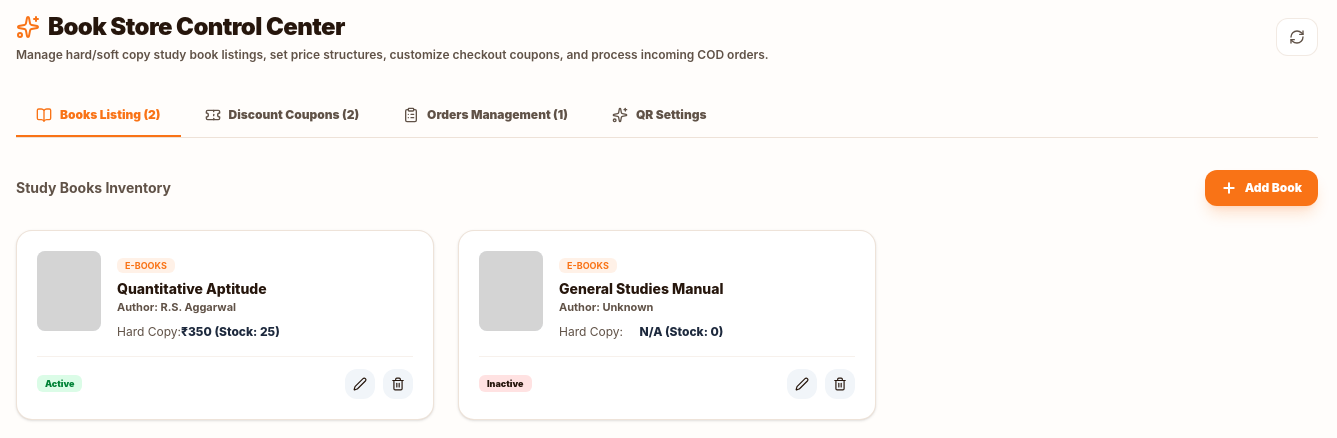
it: BookStorePage › renders coupon cards with discount details
Click the button "Discount Coupons (2)" at (282, 116), box [184,95,379,137]
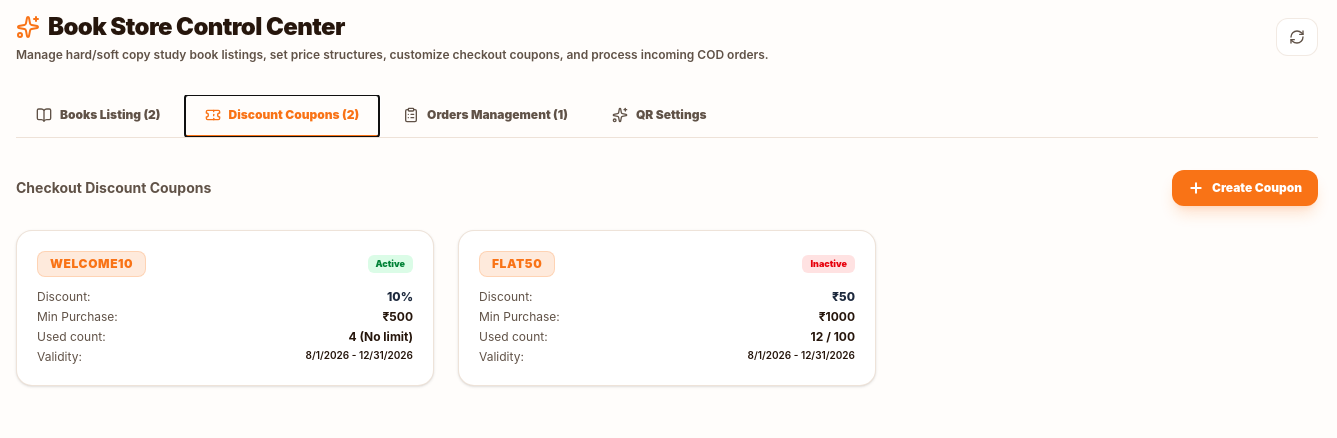
Expected: the heading "Checkout Discount Coupons" is shown, [16,178,211,198]
Expected: the text "WELCOME10" is shown, [37,251,146,277]
Expected: the text "10%" is shown, [387,289,413,305]
